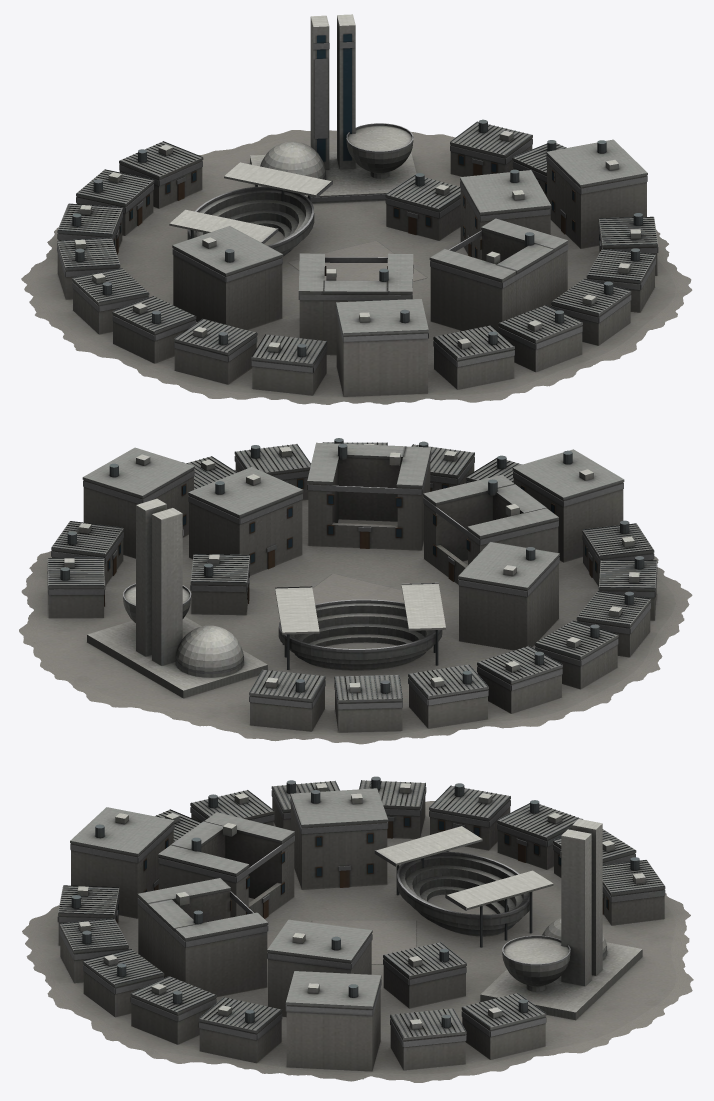
The model's file is modern-town-big-b-americas.glb.
The picture shows the model from 3 angles, top to bottom: view 1: azimuth 30°, elevation 25°; view 2: azimuth 150°, elevation 25°; view 3: azimuth 270°, elevation 25°; orthographic projection.
Visible parts, largest first — view 1: LOD0; view 2: LOD0; view 3: LOD0.
Part boxes in pixels (box(x1,y1,x2,y2)): LOD0: box(21, 14, 692, 404); LOD0: box(19, 438, 692, 744); LOD0: box(22, 776, 693, 1082).
Size of what is drawn, in the model's own units: 7.93 by 2 by 7.94.
3 materials, 3 textured.
